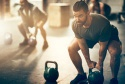male: (70, 2, 91, 29)
